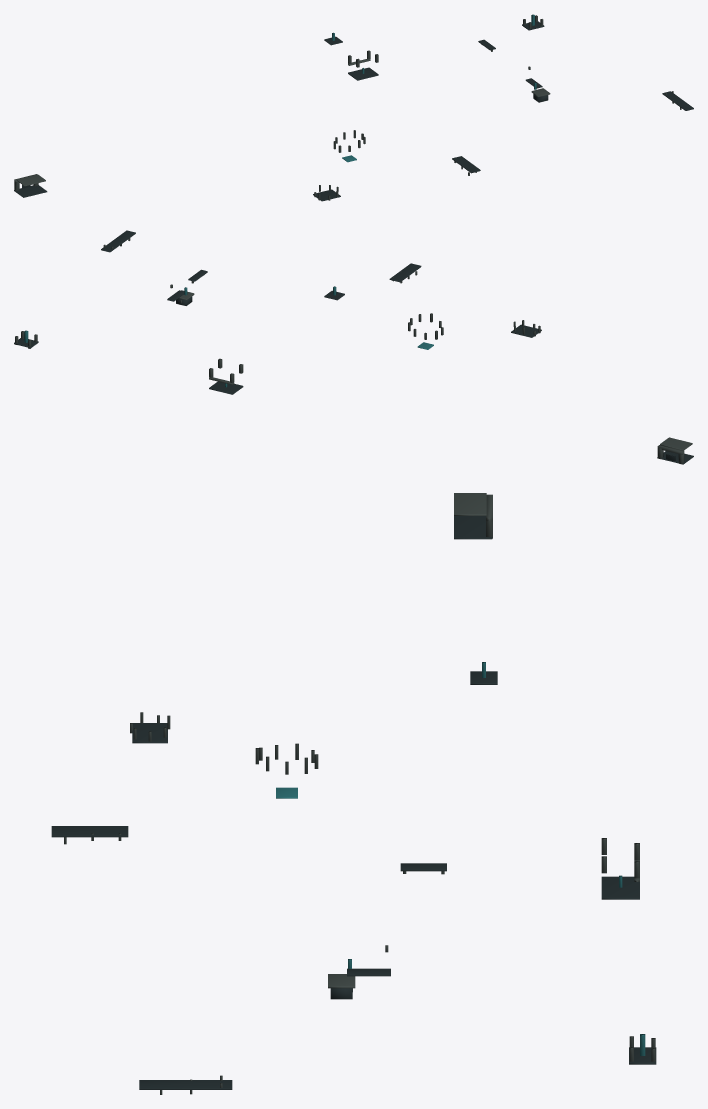
Rendered from demo_map_structures.obj.
The picture shows the model from 3 angles, top to bottom: view 1: azimuth 30°, elevation 25°; view 2: azimuth 150°, elevation 25°; view 3: azimuth 270°, elevation 25°; orthographic projection. The views are drawn at different scales.
Visible parts, largest first — view 1: mysterious_island_structures; view 2: mysterious_island_structures; view 3: mysterious_island_structures.
Part boxes in pixels (box(x1,y1,x2,y2)): mysterious_island_structures: box(14, 14, 693, 201); mysterious_island_structures: box(14, 230, 693, 464); mysterious_island_structures: box(51, 493, 656, 1094).
Bounding box in the file's own units: 500 × 66.39 × 221.
